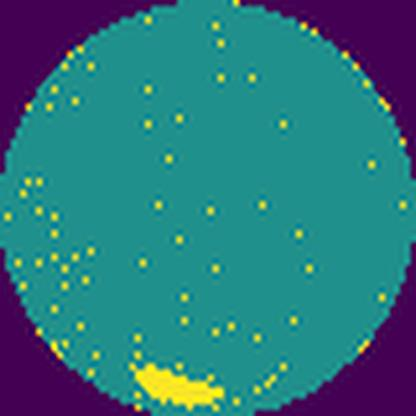Loc: (132, 362, 226, 408)
